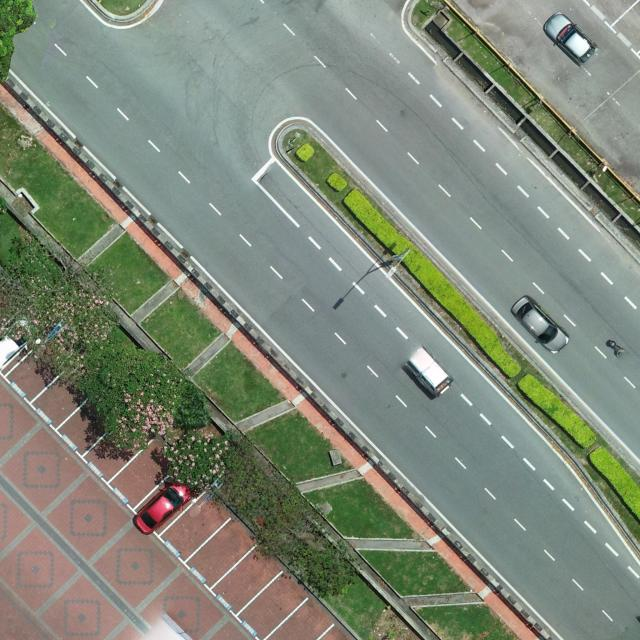Tree: (0, 229, 122, 380), (76, 341, 192, 452), (210, 430, 290, 522), (250, 485, 332, 564), (286, 538, 364, 599), (158, 430, 230, 493), (173, 380, 213, 429)
